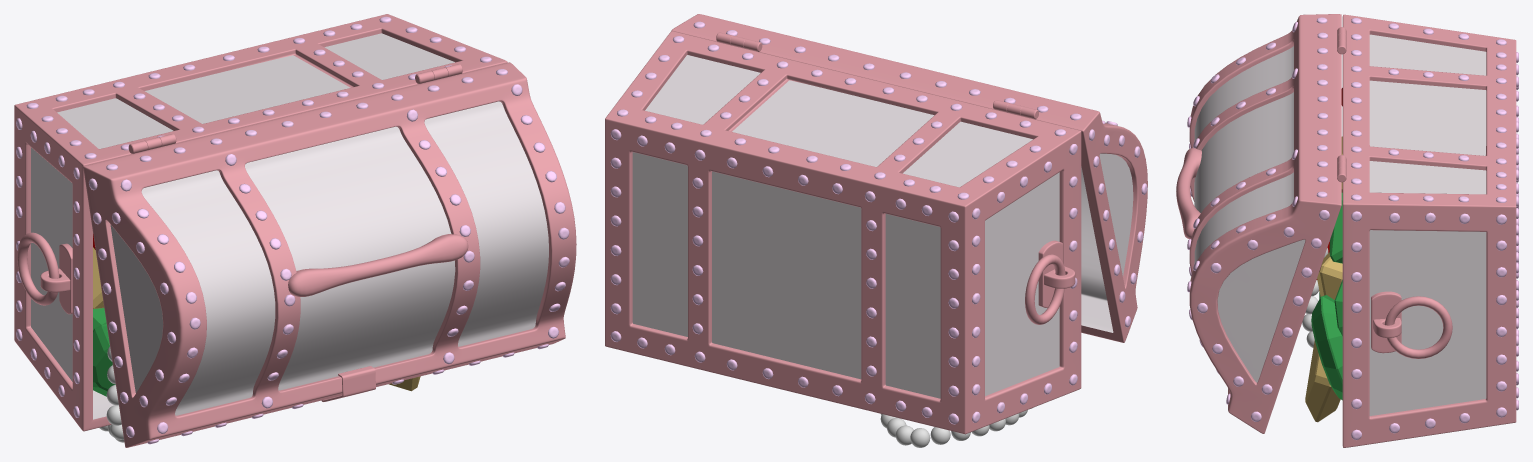
The model's file is takara.fbx.
3 views of the same model, side by side, from view 1: azimuth 30°, elevation 25°; view 2: azimuth 150°, elevation 25°; view 3: azimuth 270°, elevation 25° (orthographic). The views are drawn at different scales.
Visible parts, largest first — view 1: _aquarium_treasure_chest_v1_L2:aquarium_treasure_chest_wood, _aquarium_treasure_chest_v1_L2:aquarium_treasure_chest_metal, _aquarium_treasure_chest_v1_L2:aquarium_treasure_chest_bolts, _aquarium_treasure_chest_v1_L2:aquarium_treasure_chest_latch, _aquarium_treasure_chest_v1_L2:aquarium_treasure_chest_stone (×2), _aquarium_treasure_chest_v1_L2:aquarium_treasure_chest_pearl; view 2: _aquarium_treasure_chest_v1_L2:aquarium_treasure_chest_metal, _aquarium_treasure_chest_v1_L2:aquarium_treasure_chest_wood, _aquarium_treasure_chest_v1_L2:aquarium_treasure_chest_bolts, _aquarium_treasure_chest_v1_L2:aquarium_treasure_chest_latch, _aquarium_treasure_chest_v1_L2:aquarium_treasure_chest_pearl; view 3: _aquarium_treasure_chest_v1_L2:aquarium_treasure_chest_metal, _aquarium_treasure_chest_v1_L2:aquarium_treasure_chest_wood, _aquarium_treasure_chest_v1_L2:aquarium_treasure_chest_bolts, _aquarium_treasure_chest_v1_L2:aquarium_treasure_chest_stone (×2), _aquarium_treasure_chest_v1_L2:aquarium_treasure_chest_latch, _aquarium_treasure_chest_v1_L2:aquarium_treasure_chest_pearl.
Boxes of the visible parts, x1,y1,x2,y2 form: _aquarium_treasure_chest_v1_L2:aquarium_treasure_chest_wood: (31,33,548,419); _aquarium_treasure_chest_v1_L2:aquarium_treasure_chest_metal: (14,14,576,447); _aquarium_treasure_chest_v1_L2:aquarium_treasure_chest_bolts: (16,16,569,444); _aquarium_treasure_chest_v1_L2:aquarium_treasure_chest_latch: (40,64,462,401); _aquarium_treasure_chest_v1_L2:aquarium_treasure_chest_stone (×2): (93,247,420,396); _aquarium_treasure_chest_v1_L2:aquarium_treasure_chest_pearl: (99,346,124,442); _aquarium_treasure_chest_v1_L2:aquarium_treasure_chest_metal: (605,14,1147,434); _aquarium_treasure_chest_v1_L2:aquarium_treasure_chest_wood: (632,55,1133,398); _aquarium_treasure_chest_v1_L2:aquarium_treasure_chest_bolts: (610,21,1147,424); _aquarium_treasure_chest_v1_L2:aquarium_treasure_chest_latch: (716,32,1075,307); _aquarium_treasure_chest_v1_L2:aquarium_treasure_chest_pearl: (880,408,1032,447); _aquarium_treasure_chest_v1_L2:aquarium_treasure_chest_metal: (1176,14,1516,447); _aquarium_treasure_chest_v1_L2:aquarium_treasure_chest_wood: (1194,34,1486,415); _aquarium_treasure_chest_v1_L2:aquarium_treasure_chest_bolts: (1187,17,1518,440); _aquarium_treasure_chest_v1_L2:aquarium_treasure_chest_stone (×2): (1305,136,1342,422); _aquarium_treasure_chest_v1_L2:aquarium_treasure_chest_latch: (1337,27,1401,353); _aquarium_treasure_chest_v1_L2:aquarium_treasure_chest_pearl: (1302,241,1329,347).
Bounding box in the file's own units: 14.7 × 9.57 × 10.43.
